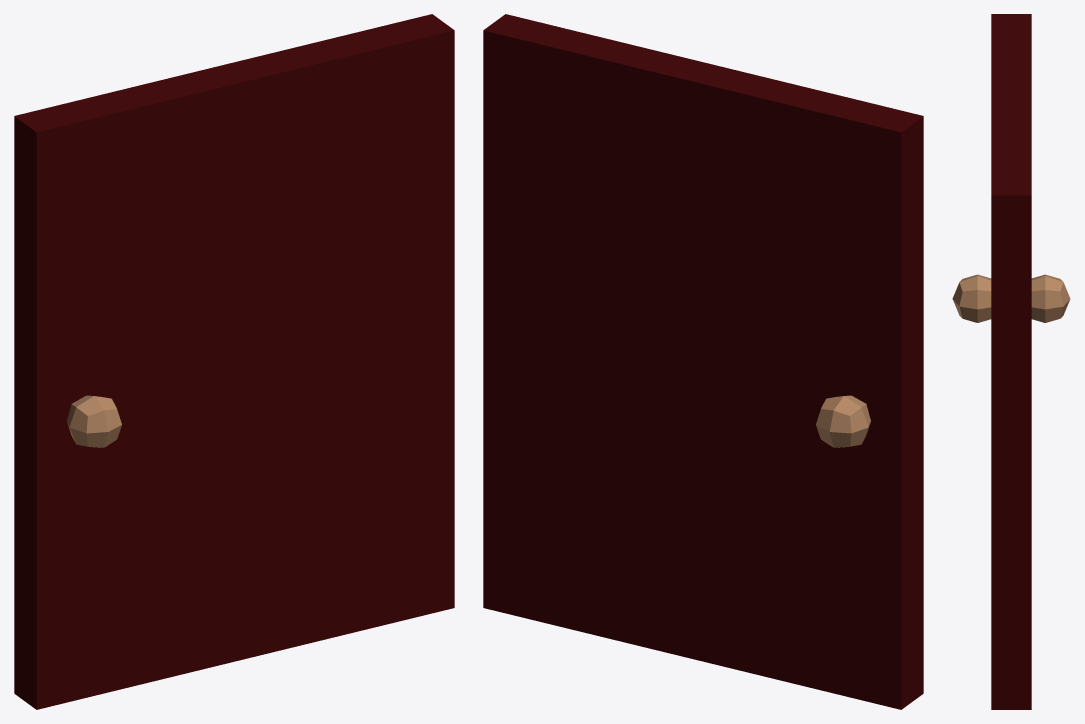
The model's file is DoorBaHouse.fbx.
3 views of the same model, side by side, from view 1: azimuth 30°, elevation 25°; view 2: azimuth 150°, elevation 25°; view 3: azimuth 270°, elevation 25° (orthographic). The views are drawn at different scales.
Visible parts, largest first — view 1: Cube.002, Cube.004; view 2: Cube.002, Cube.004; view 3: Cube.002, Cube.004.
Boxes of the visible parts, x1=… form: Cube.002: x1=14, y1=14, x2=454, y2=709; Cube.004: x1=67, y1=395, x2=121, y2=447; Cube.002: x1=483, y1=14, x2=923, y2=709; Cube.004: x1=816, y1=395, x2=870, y2=447; Cube.002: x1=991, y1=14, x2=1031, y2=709; Cube.004: x1=952, y1=274, x2=1070, y2=322.
Bounding box in the file's own units: 612 × 808 × 168.
